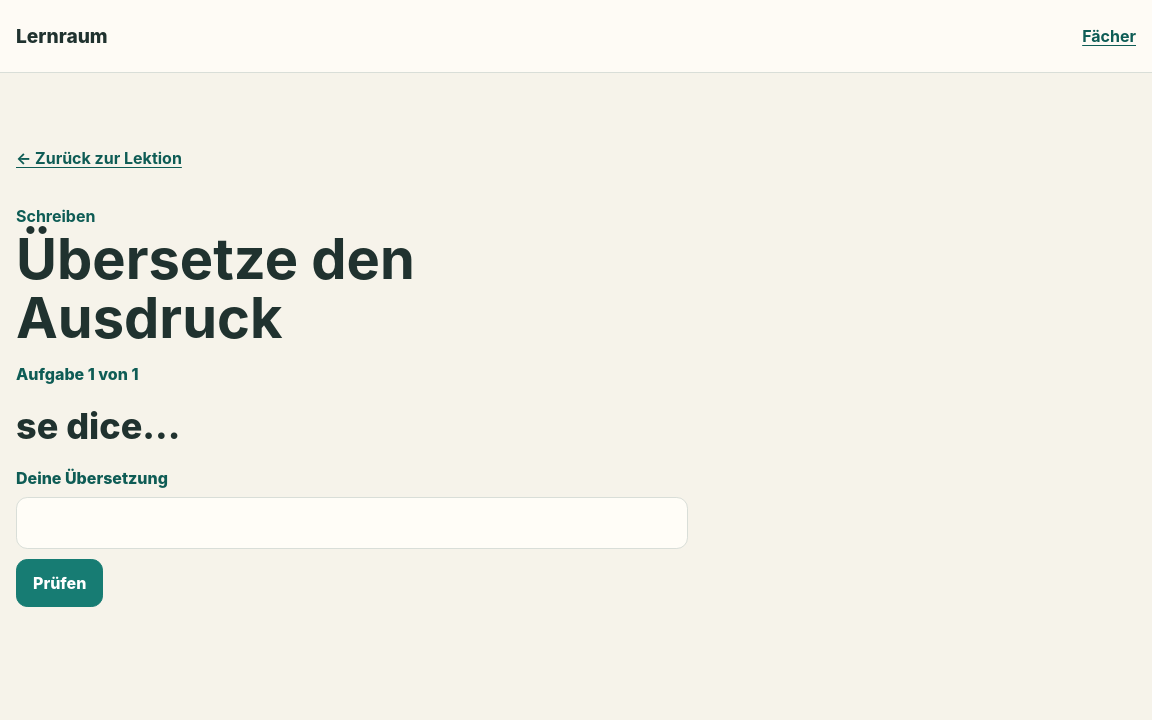
WritingMode › accepts a stored synonym
The width and height of the screenshot is (1152, 720).
Type "heißt ..." into the field labelled "Deine Übersetzung" at (352, 523), box [16, 497, 688, 549]
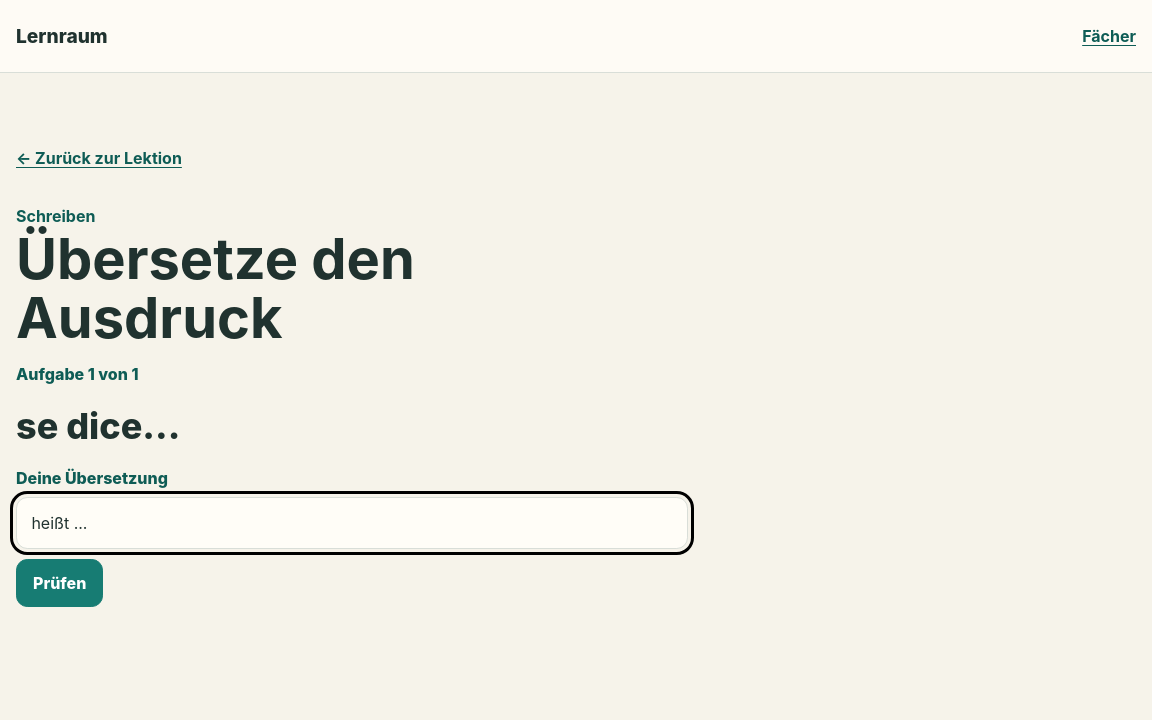
Click the button "Prüfen" at (60, 583), box [16, 559, 103, 607]
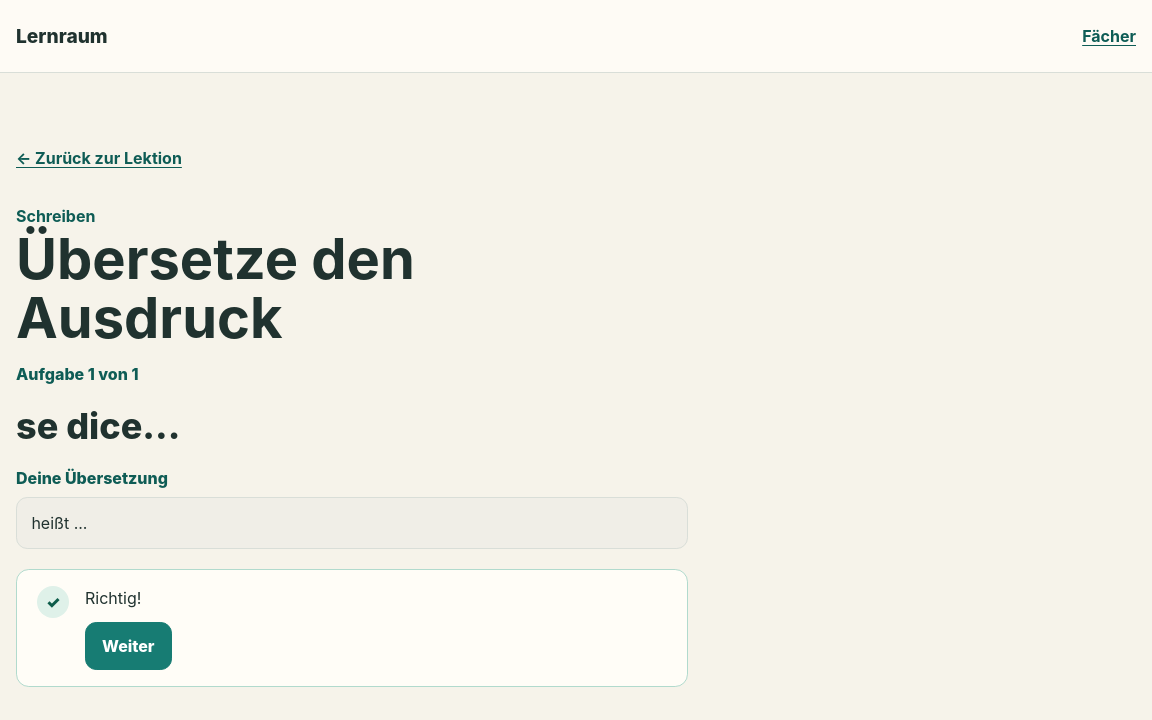
Check: the message reads "Richtig!", box [85, 588, 141, 608]
